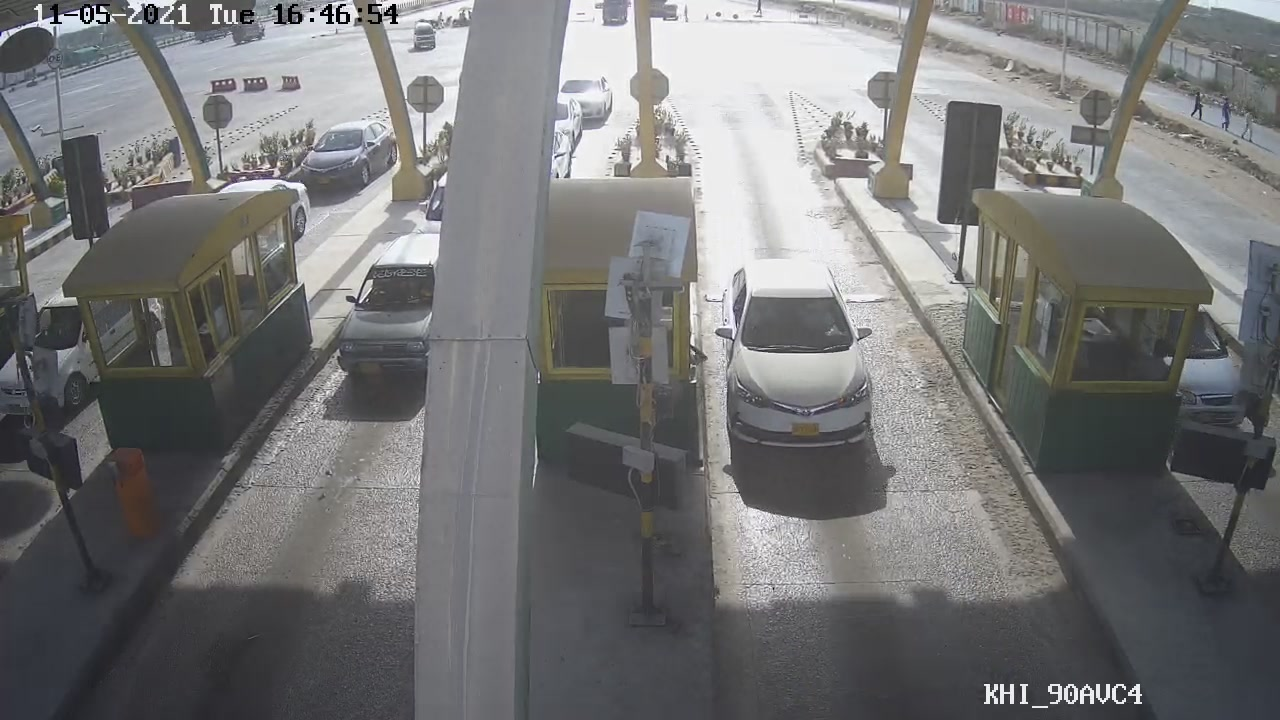F1: (716, 262, 895, 456)
